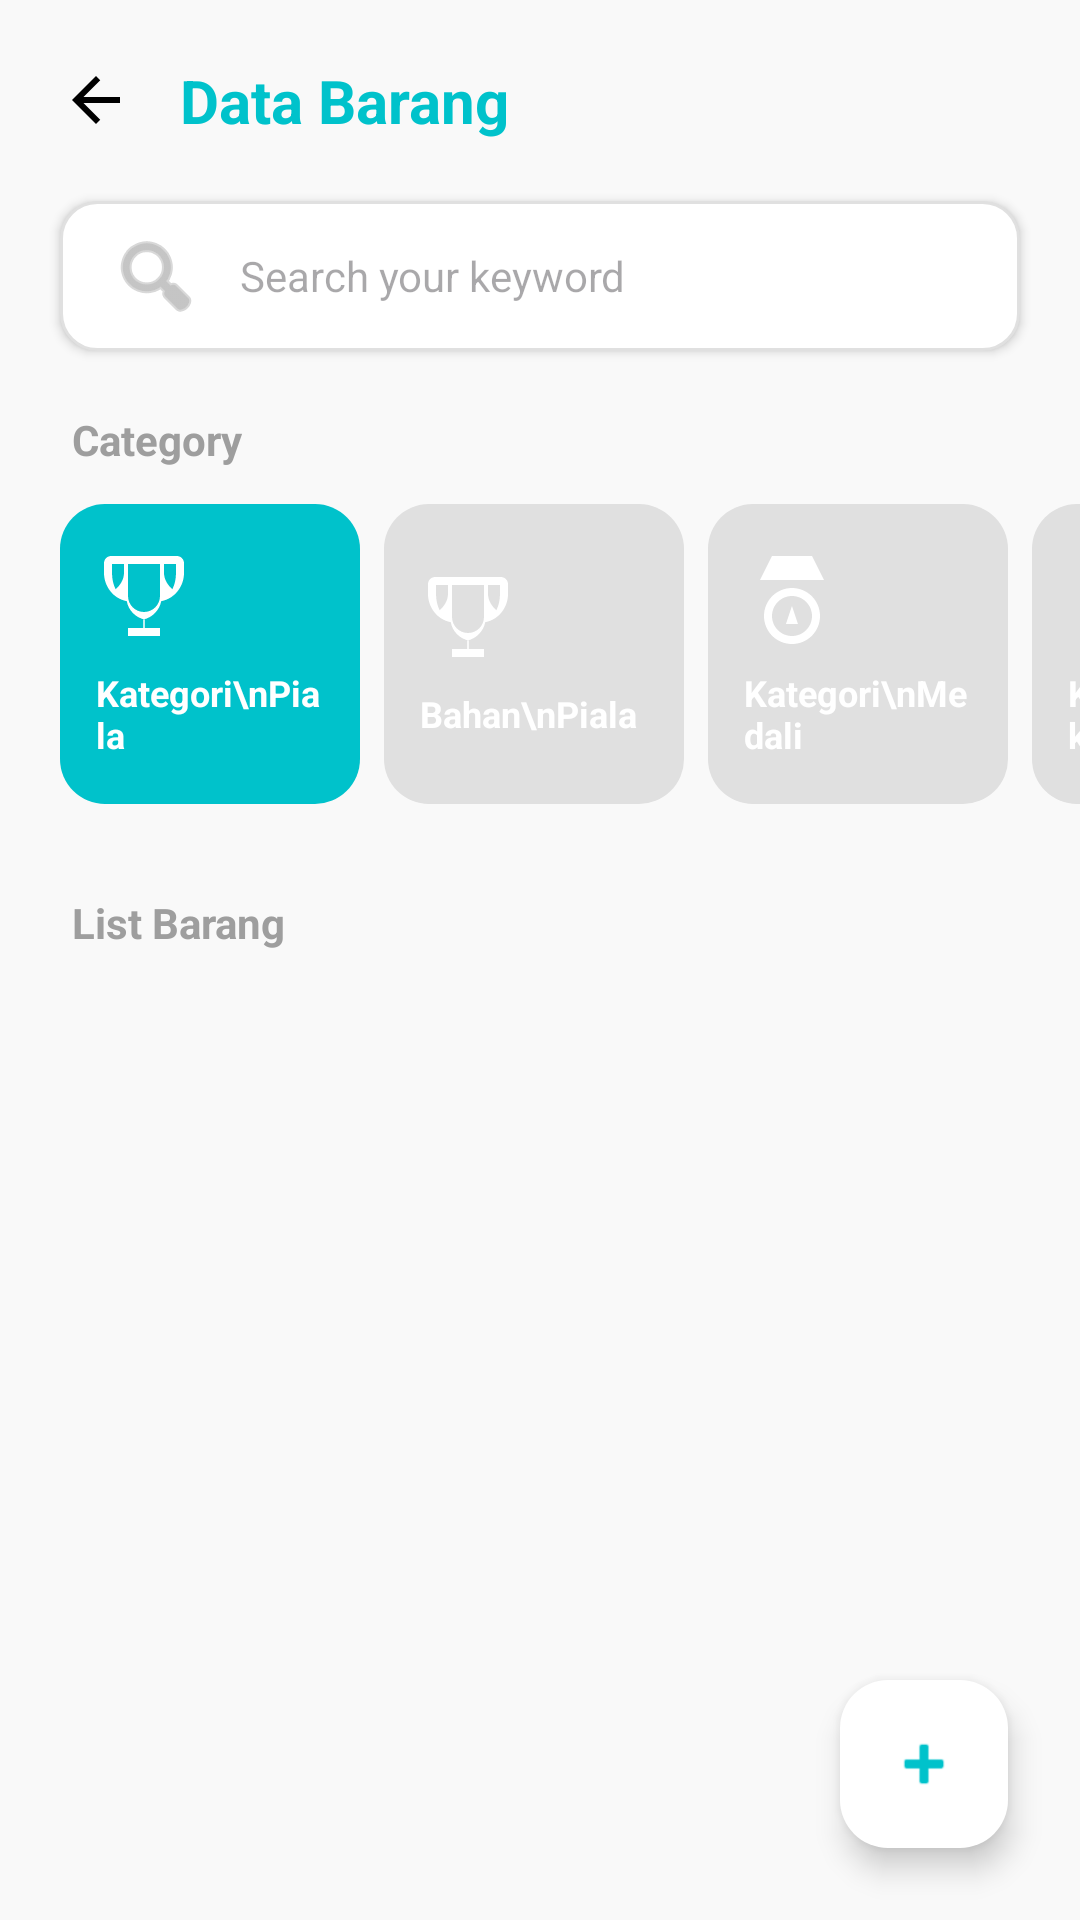

Icon click points for this 1080 × 1920 phone screenshot, format (x=x, y=y):
add: (x=924, y=1764)
arrow back: (x=96, y=100)
